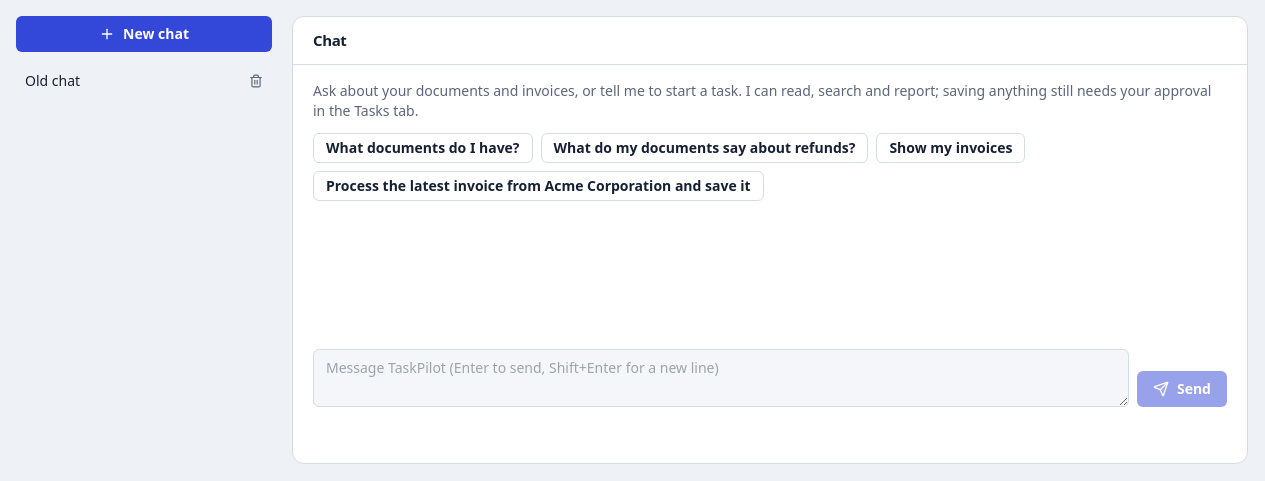
it: suggestion chips send a message and past conversations can be opened
This screenshot has width=1265, height=481.
Click the button "Old chat".
click(135, 81)  # box [25,71,245,91]
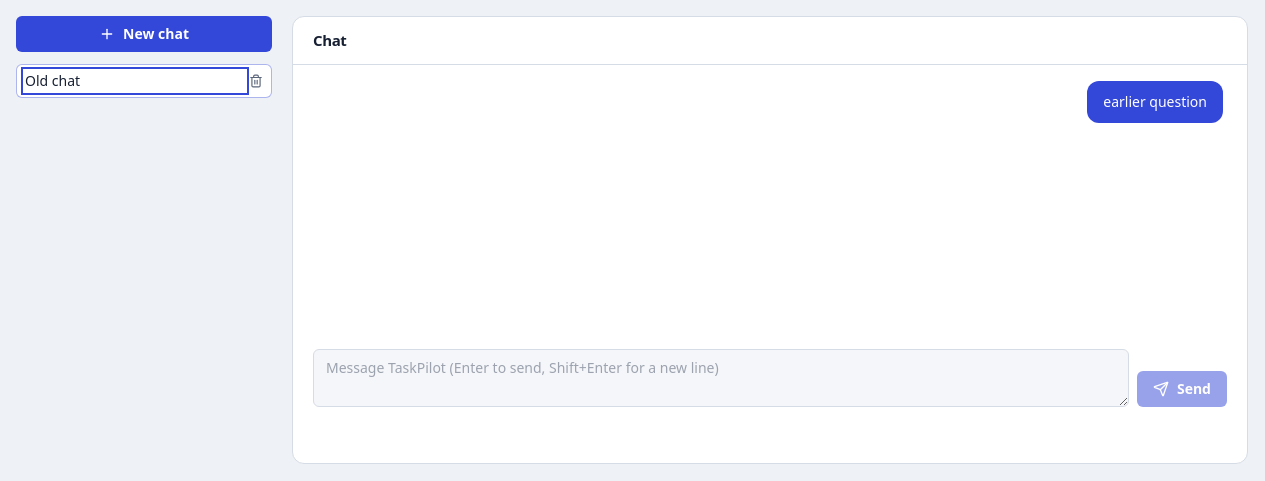
Result: the text "earlier question" is shown at [1103,90,1207,113]
